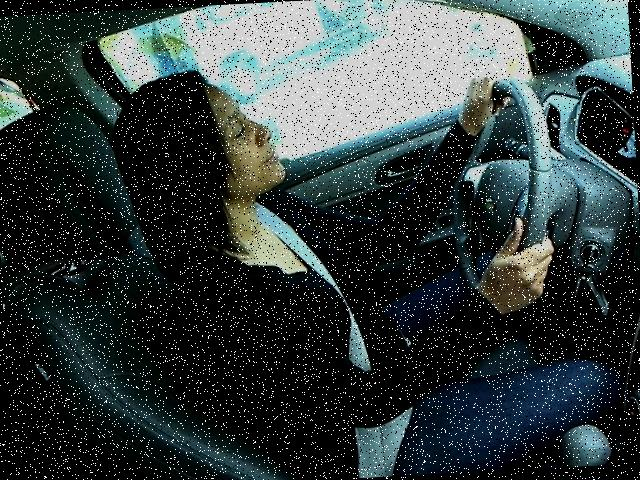c0 - Safe Driving: (104, 55, 574, 431)
